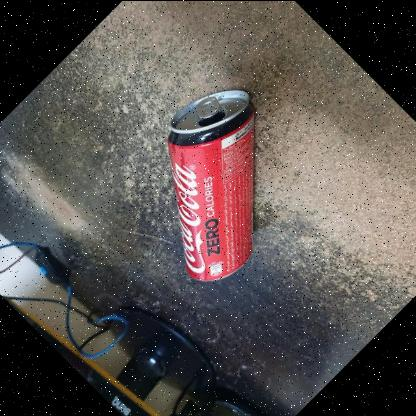Can: (163, 84, 267, 296)
